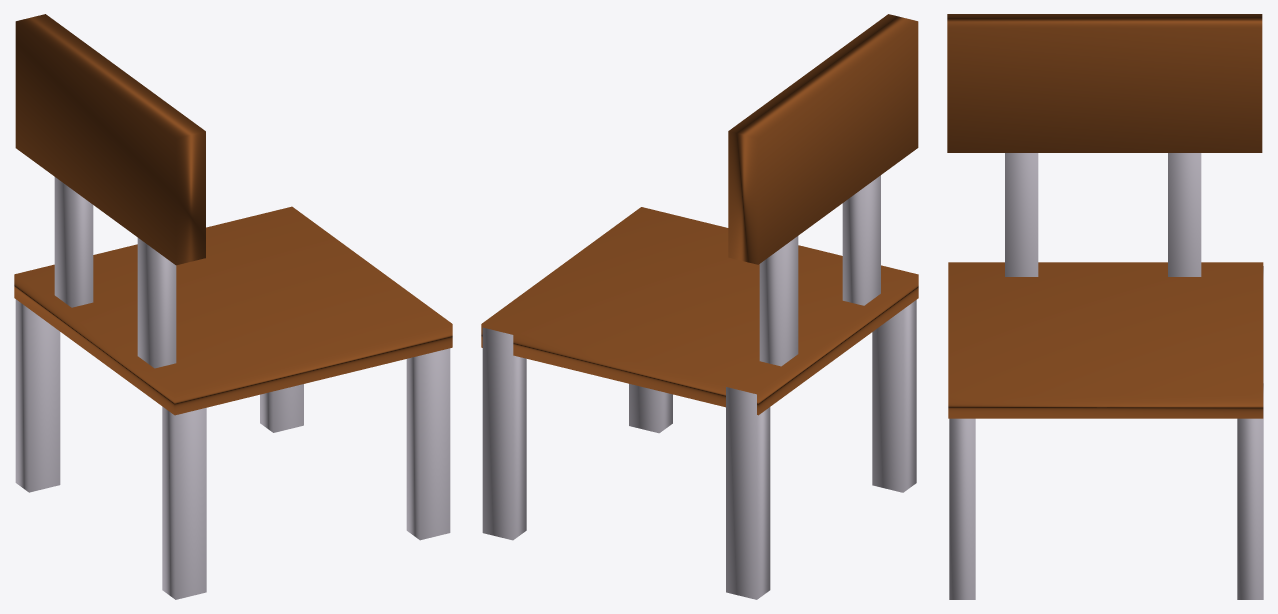
The model's file is silla.gltf.
The picture shows the model from 3 angles, left to right: view 1: azimuth 30°, elevation 25°; view 2: azimuth 150°, elevation 25°; view 3: azimuth 270°, elevation 25°; orthographic projection.
Visible parts, largest first — view 1: Cube, Cube.005, Cube.001, Cube.002, Cube.004, Cube.007, Cube.006, Cube.003; view 2: Cube, Cube.005, Cube.004, Cube.003, Cube.001, Cube.007, Cube.006, Cube.002; view 3: Cube, Cube.005, Cube.003, Cube.002, Cube.007, Cube.006.
Boxes of the visible parts, x1=… form: Cube: x1=14, y1=206, x2=452, y2=415; Cube.005: x1=15, y1=14, x2=205, y2=265; Cube.001: x1=162, y1=406, x2=206, y2=599; Cube.002: x1=406, y1=348, x2=450, y2=540; Cube.004: x1=15, y1=299, x2=60, y2=492; Cube.007: x1=54, y1=177, x2=93, y2=307; Cube.006: x1=137, y1=238, x2=176, y2=368; Cube.003: x1=260, y1=384, x2=303, y2=432; Cube: x1=481, y1=207, x2=918, y2=415; Cube.005: x1=728, y1=14, x2=918, y2=264; Cube.004: x1=726, y1=387, x2=770, y2=599; Cube.003: x1=482, y1=327, x2=526, y2=540; Cube.001: x1=872, y1=300, x2=916, y2=492; Cube.007: x1=759, y1=236, x2=798, y2=366; Cube.006: x1=842, y1=175, x2=880, y2=305; Cube.002: x1=629, y1=384, x2=672, y2=433; Cube: x1=948, y1=262, x2=1263, y2=418; Cube.005: x1=947, y1=14, x2=1262, y2=152; Cube.003: x1=1237, y1=383, x2=1263, y2=599; Cube.002: x1=949, y1=418, x2=975, y2=599; Cube.007: x1=1168, y1=153, x2=1201, y2=276; Cube.006: x1=1005, y1=153, x2=1038, y2=276.
Bounding box in the file's own units: 2 × 3.18 × 2.01.
